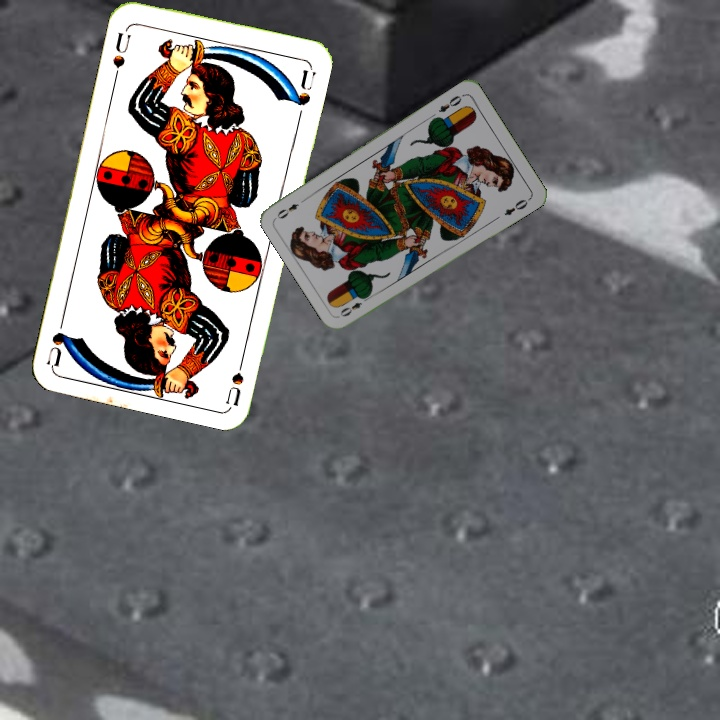EO: (336, 291, 372, 320), (434, 90, 467, 115)
SU: (222, 347, 248, 406), (108, 28, 134, 82)
